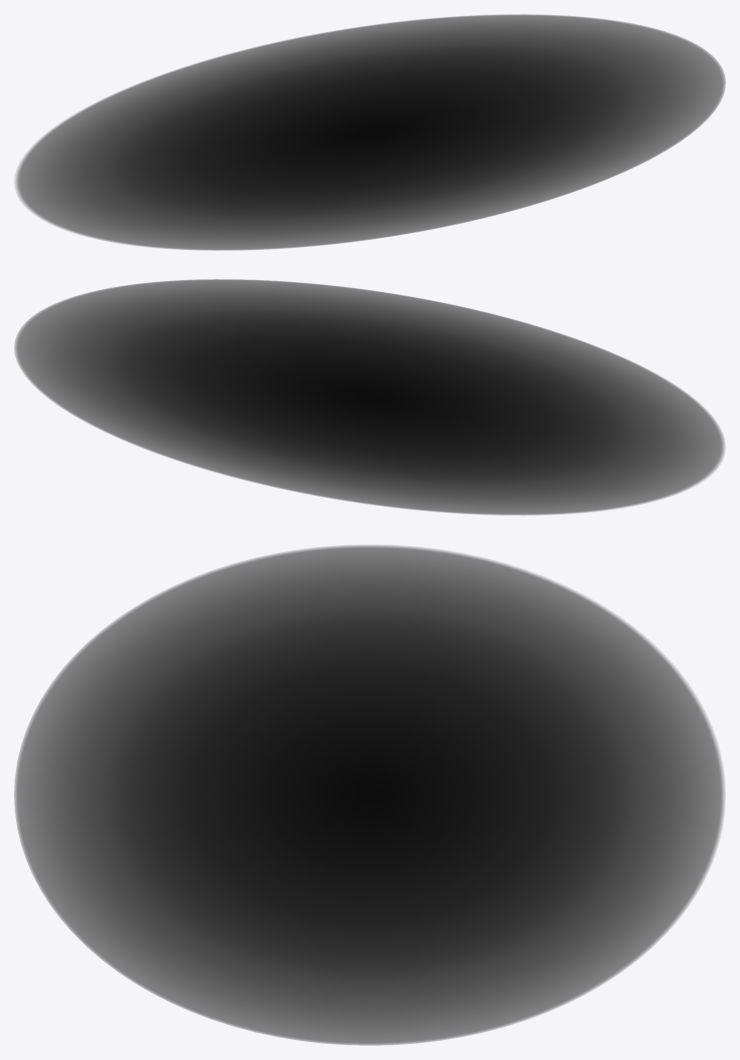
File: platform.glb
3 renders of one model, top to bottom at view 1: azimuth 30°, elevation 25°; view 2: azimuth 150°, elevation 25°; view 3: azimuth 270°, elevation 25°, orthographic. The views are drawn at different scales.
Visible parts, largest first — view 1: platform-base; view 2: platform-base; view 3: platform-base.
Boxes of the visible parts, x1,y1,x2,y2 form: platform-base: [15, 14, 725, 250]; platform-base: [14, 279, 724, 515]; platform-base: [14, 545, 724, 1045].
Bounding box in the file's own units: 5 × 0 × 3.
Materials: 1 (1 with a texture image).
